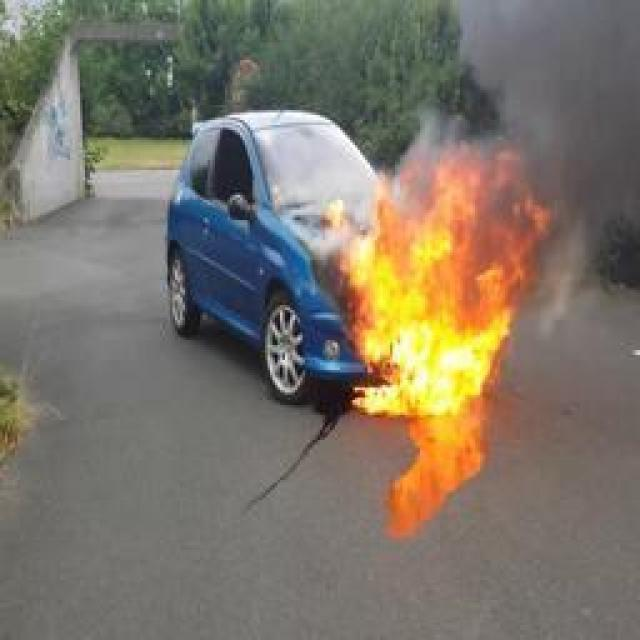Fire: (331, 152, 551, 418)
